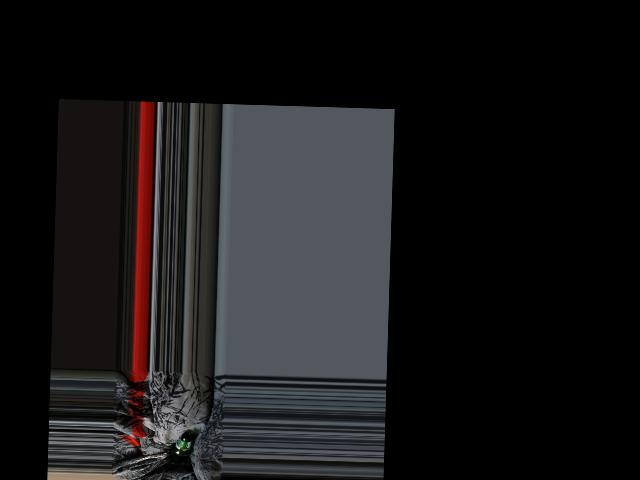beer: (170, 431, 194, 463)
